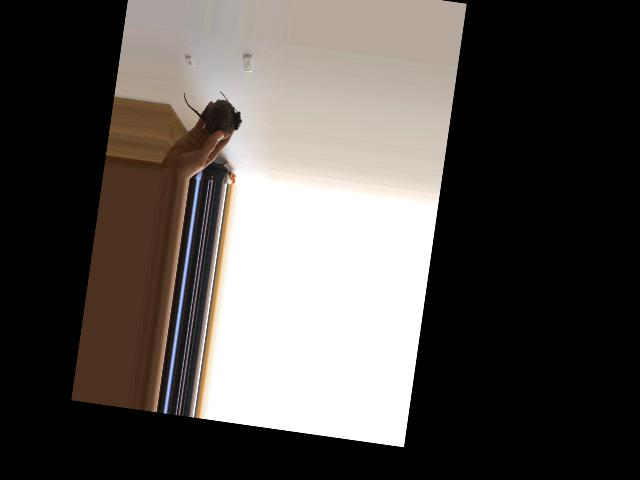beet: (177, 85, 245, 142)
